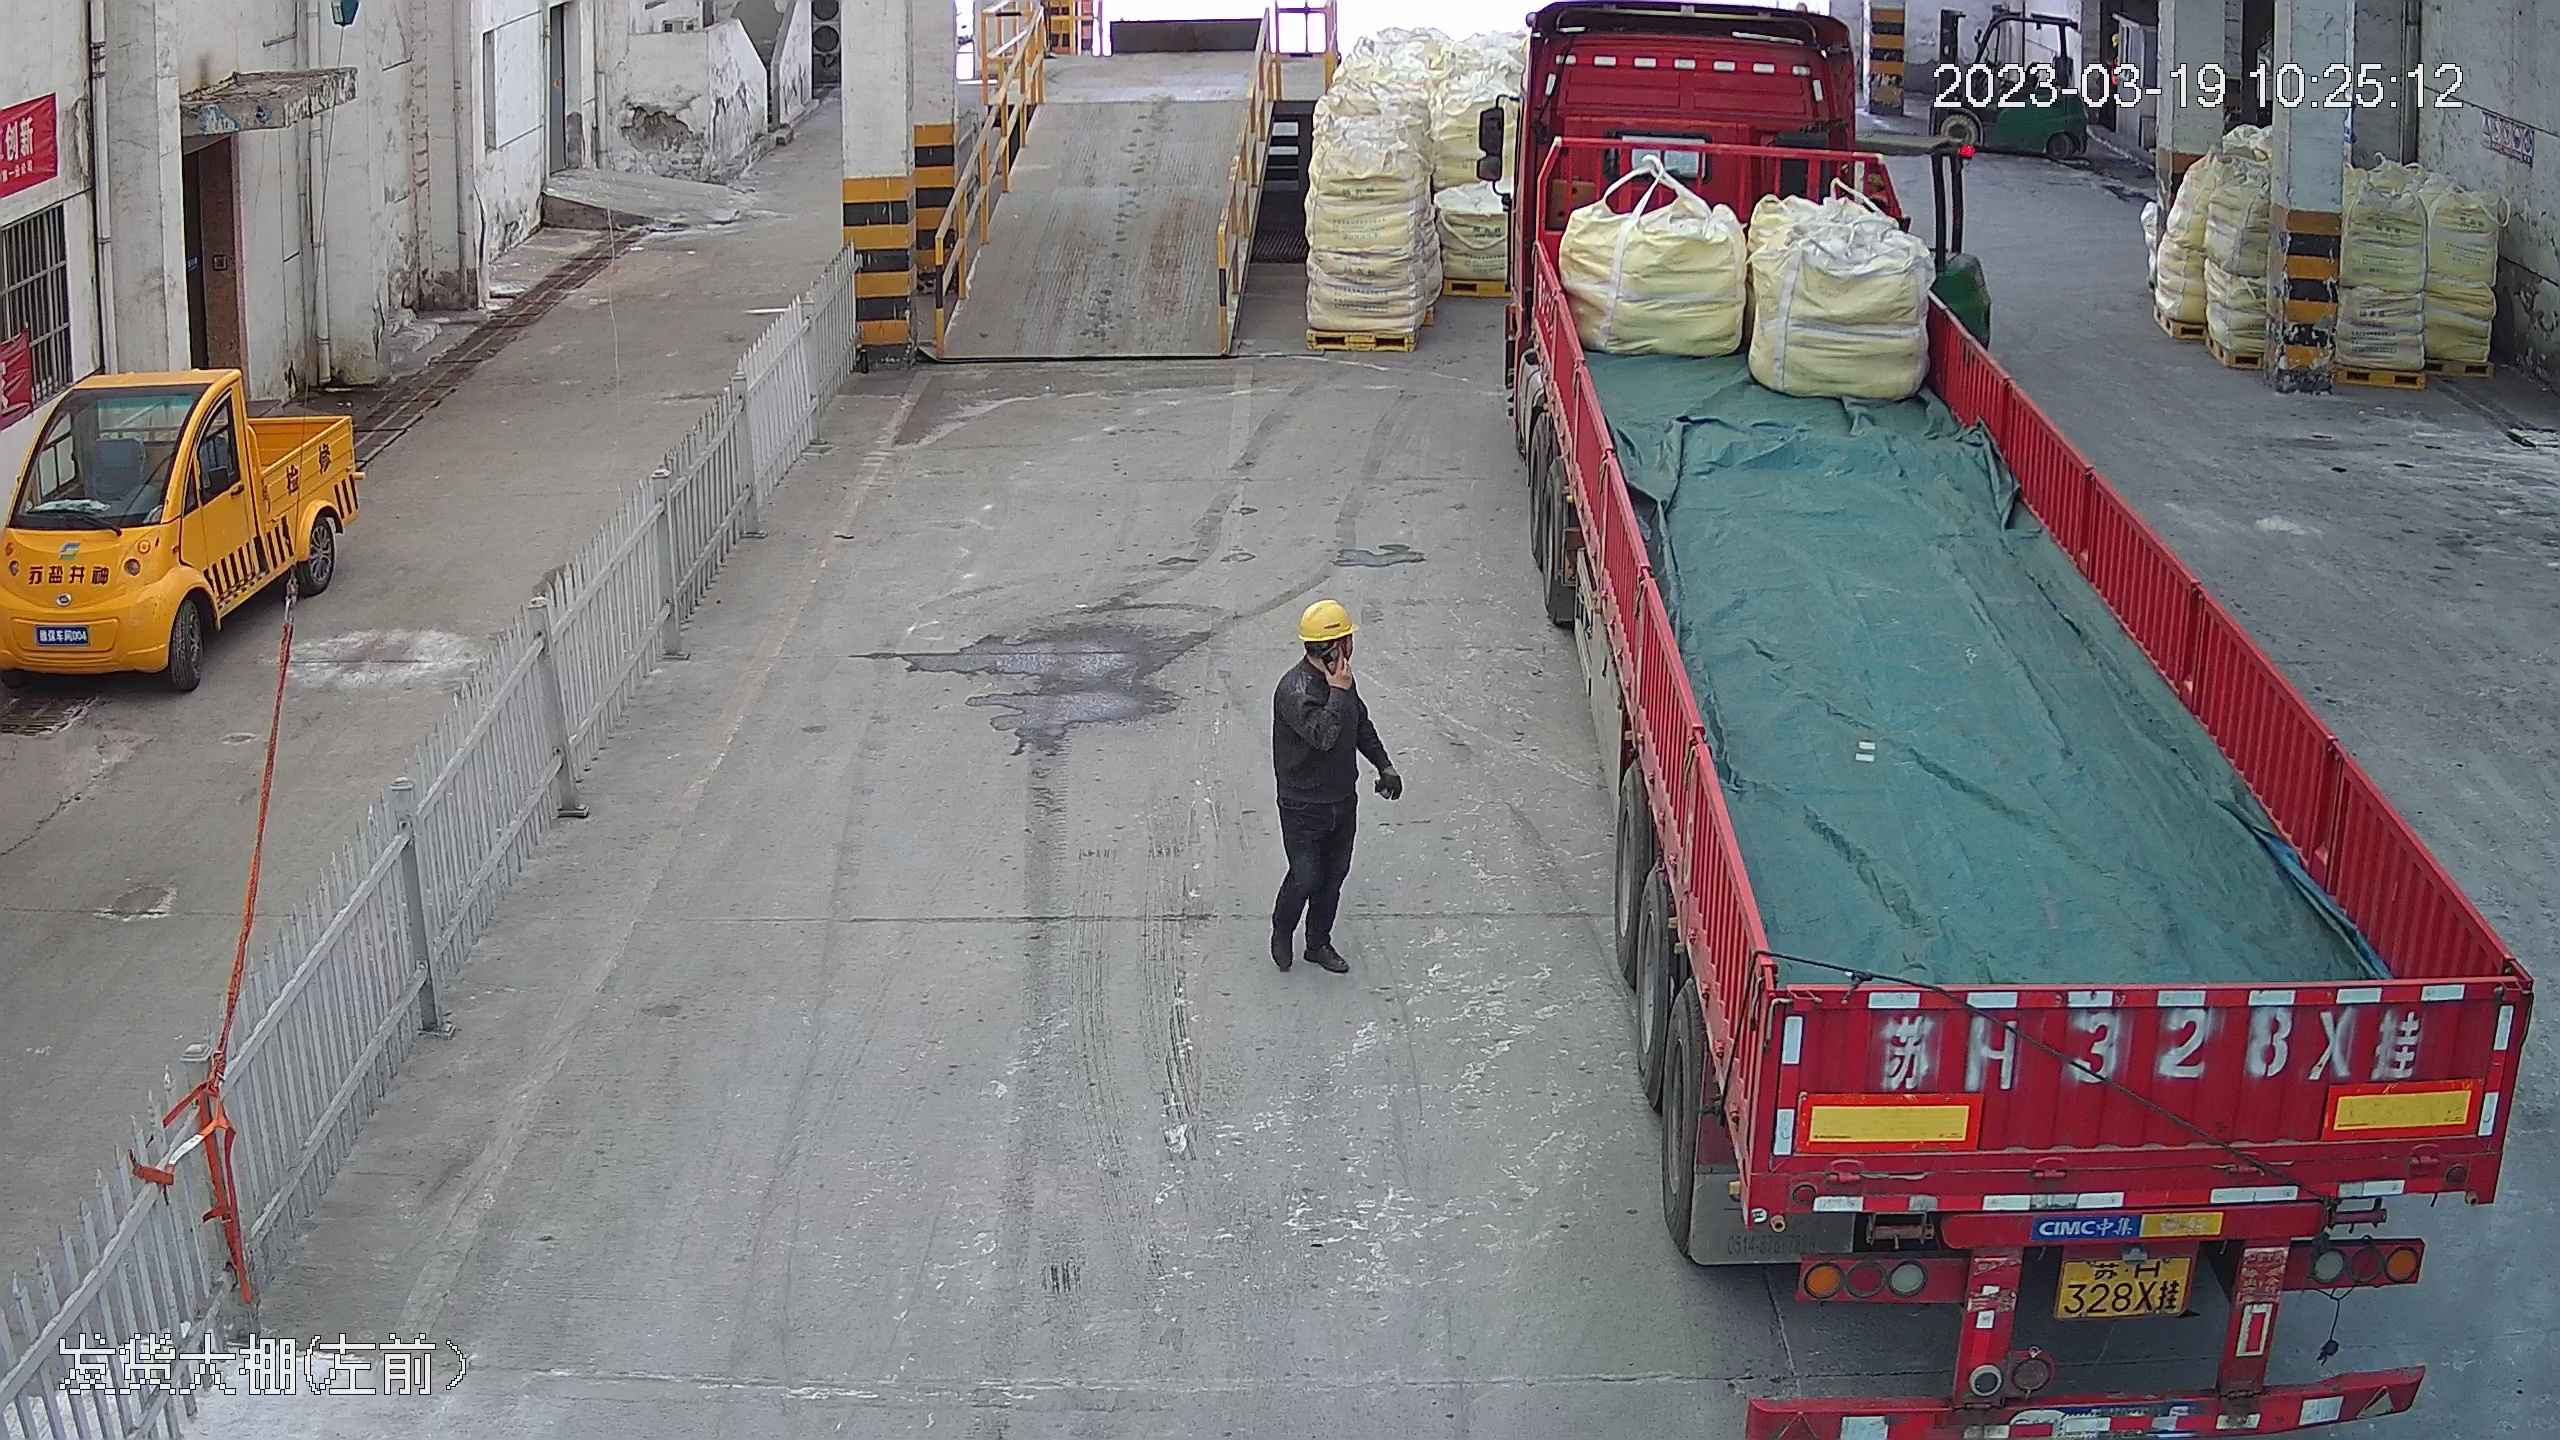head: (1271, 596, 1371, 716)
helmet: (1296, 595, 1359, 641)
people: (1262, 590, 1404, 985)
truck: (1497, 2, 2555, 1428)
